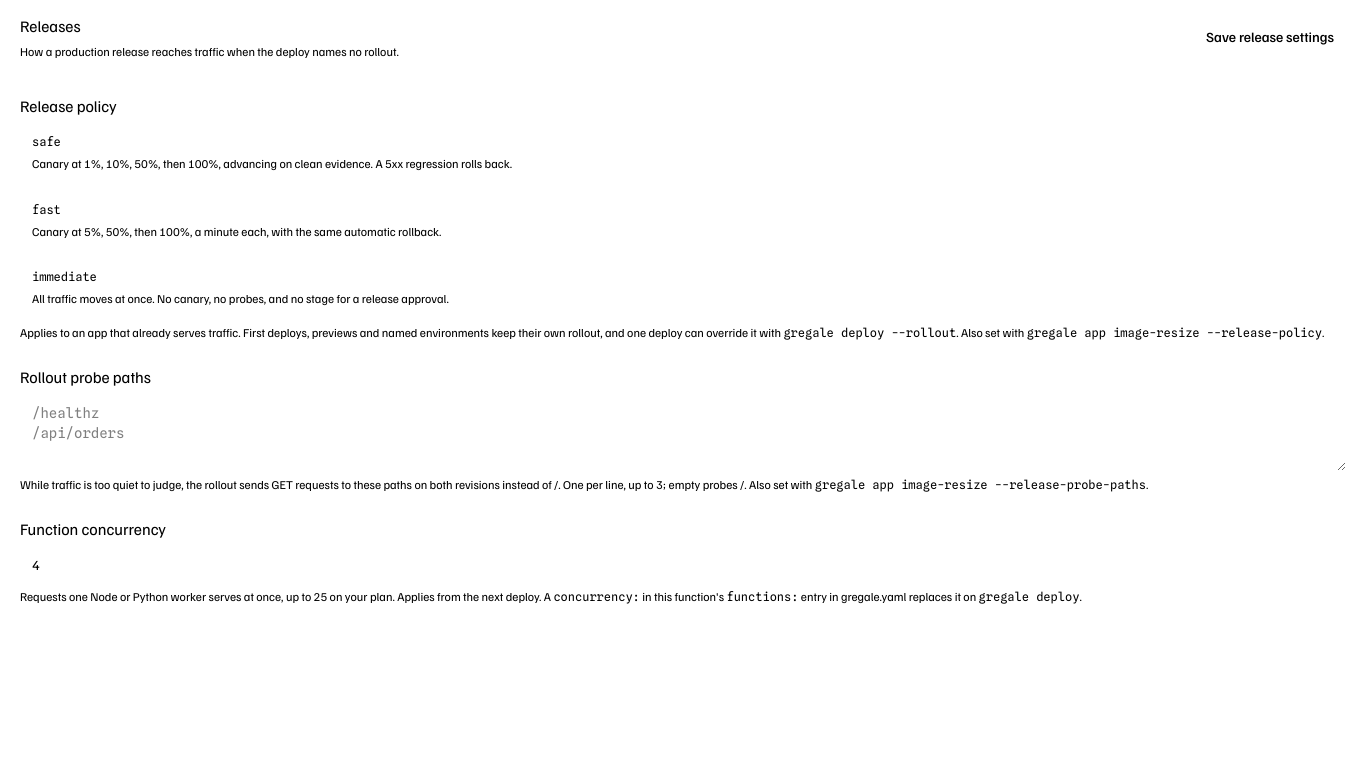
AppReleaseSettings › shows the field apid refused on validation_failed
This screenshot has width=1366, height=768.
Step 1. Replace the text in the number field labelled "Function concurrency" with "9" → (683, 564), box [20,546,1346,582]
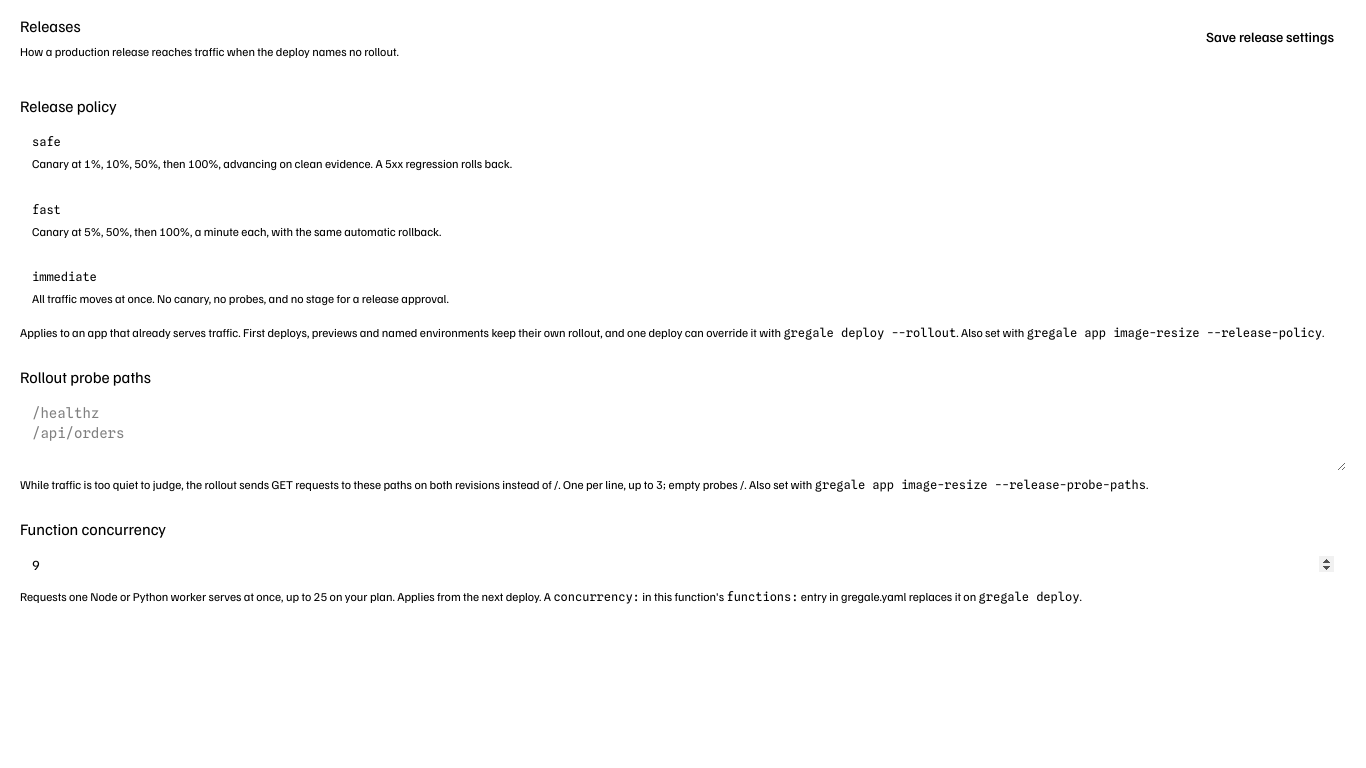
Step 2. Click the button "Save release settings" → click(1270, 37), box [1194,21,1346,53]
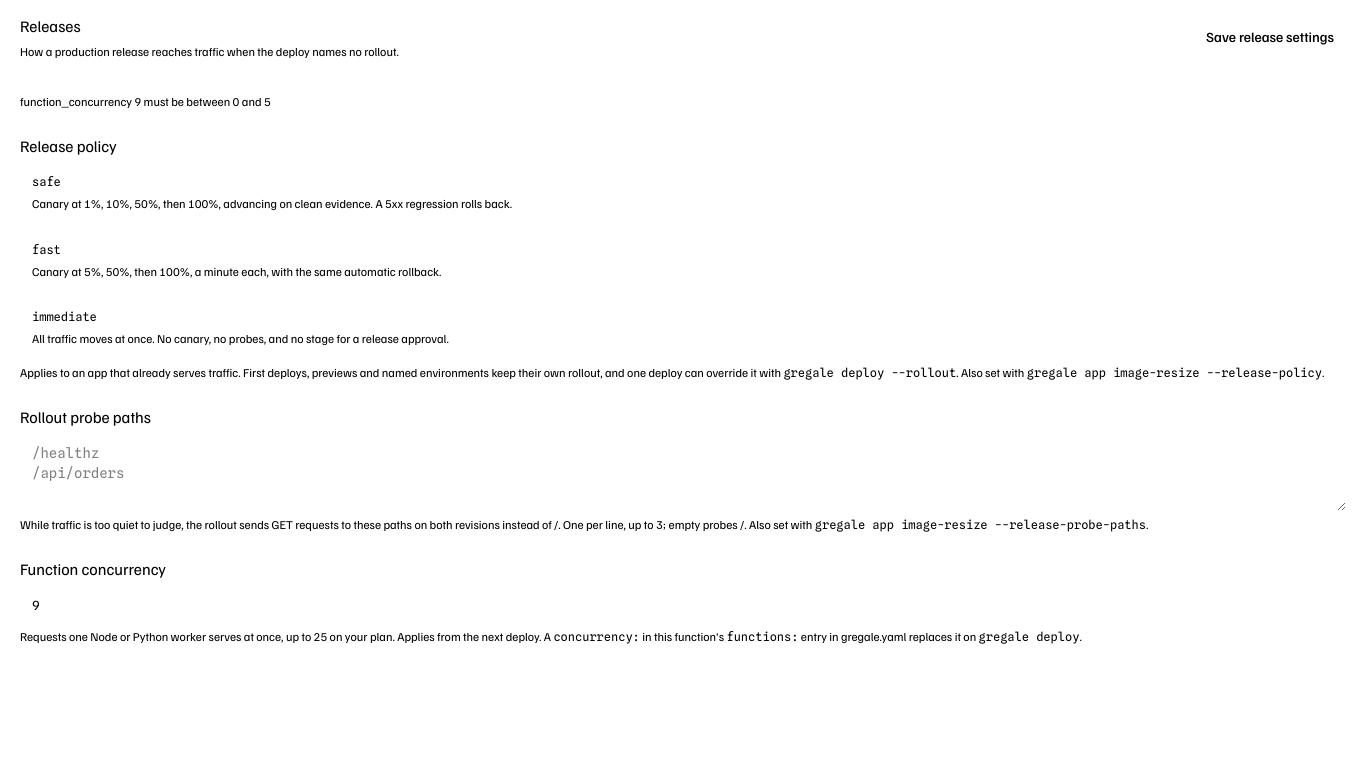
Expected: the message shows "between 0 and 5", [20,94,271,109]
